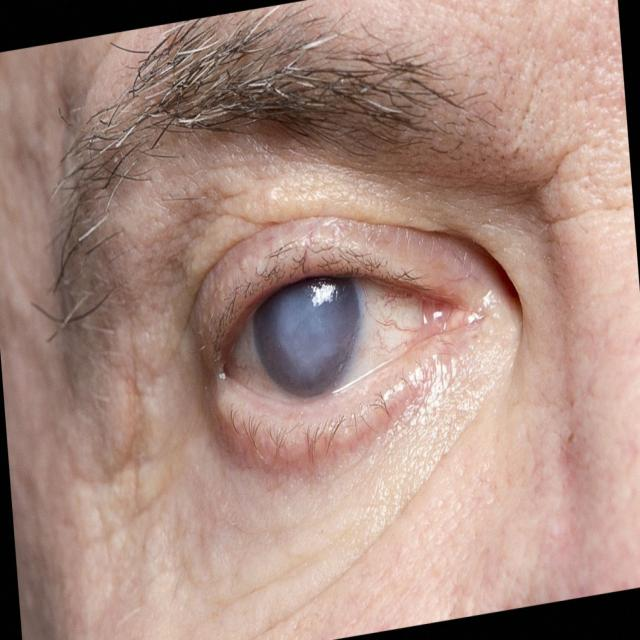Cataract: (226, 237, 399, 417)
